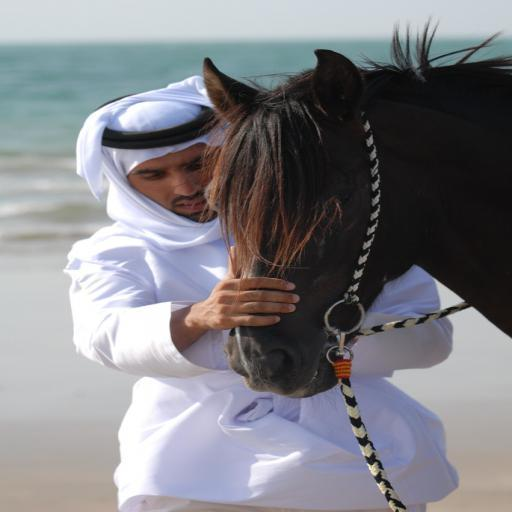horse: (201, 12, 512, 398)
